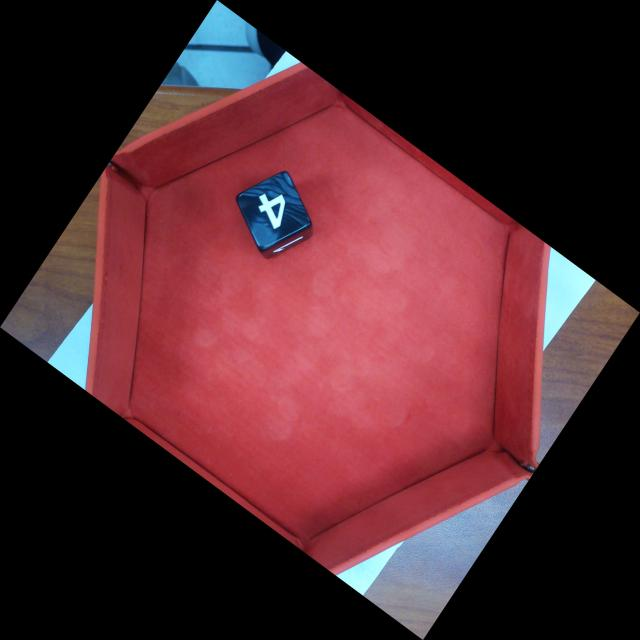dice: (236, 169, 313, 247)
